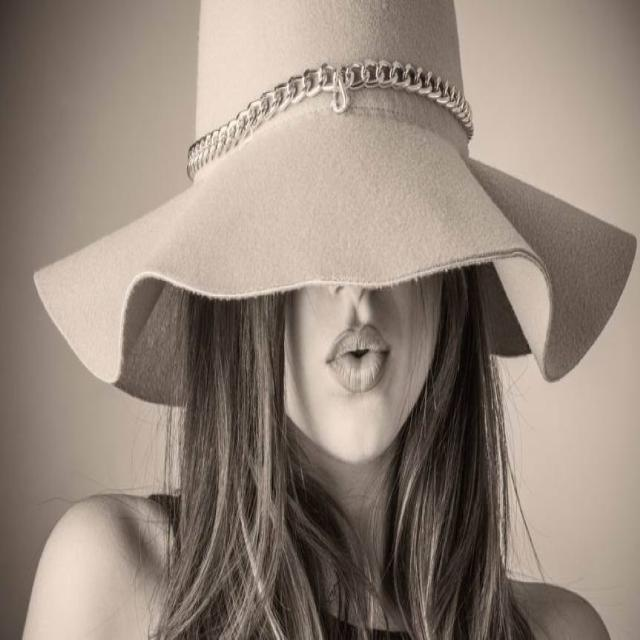hat: (34, 1, 636, 460)
